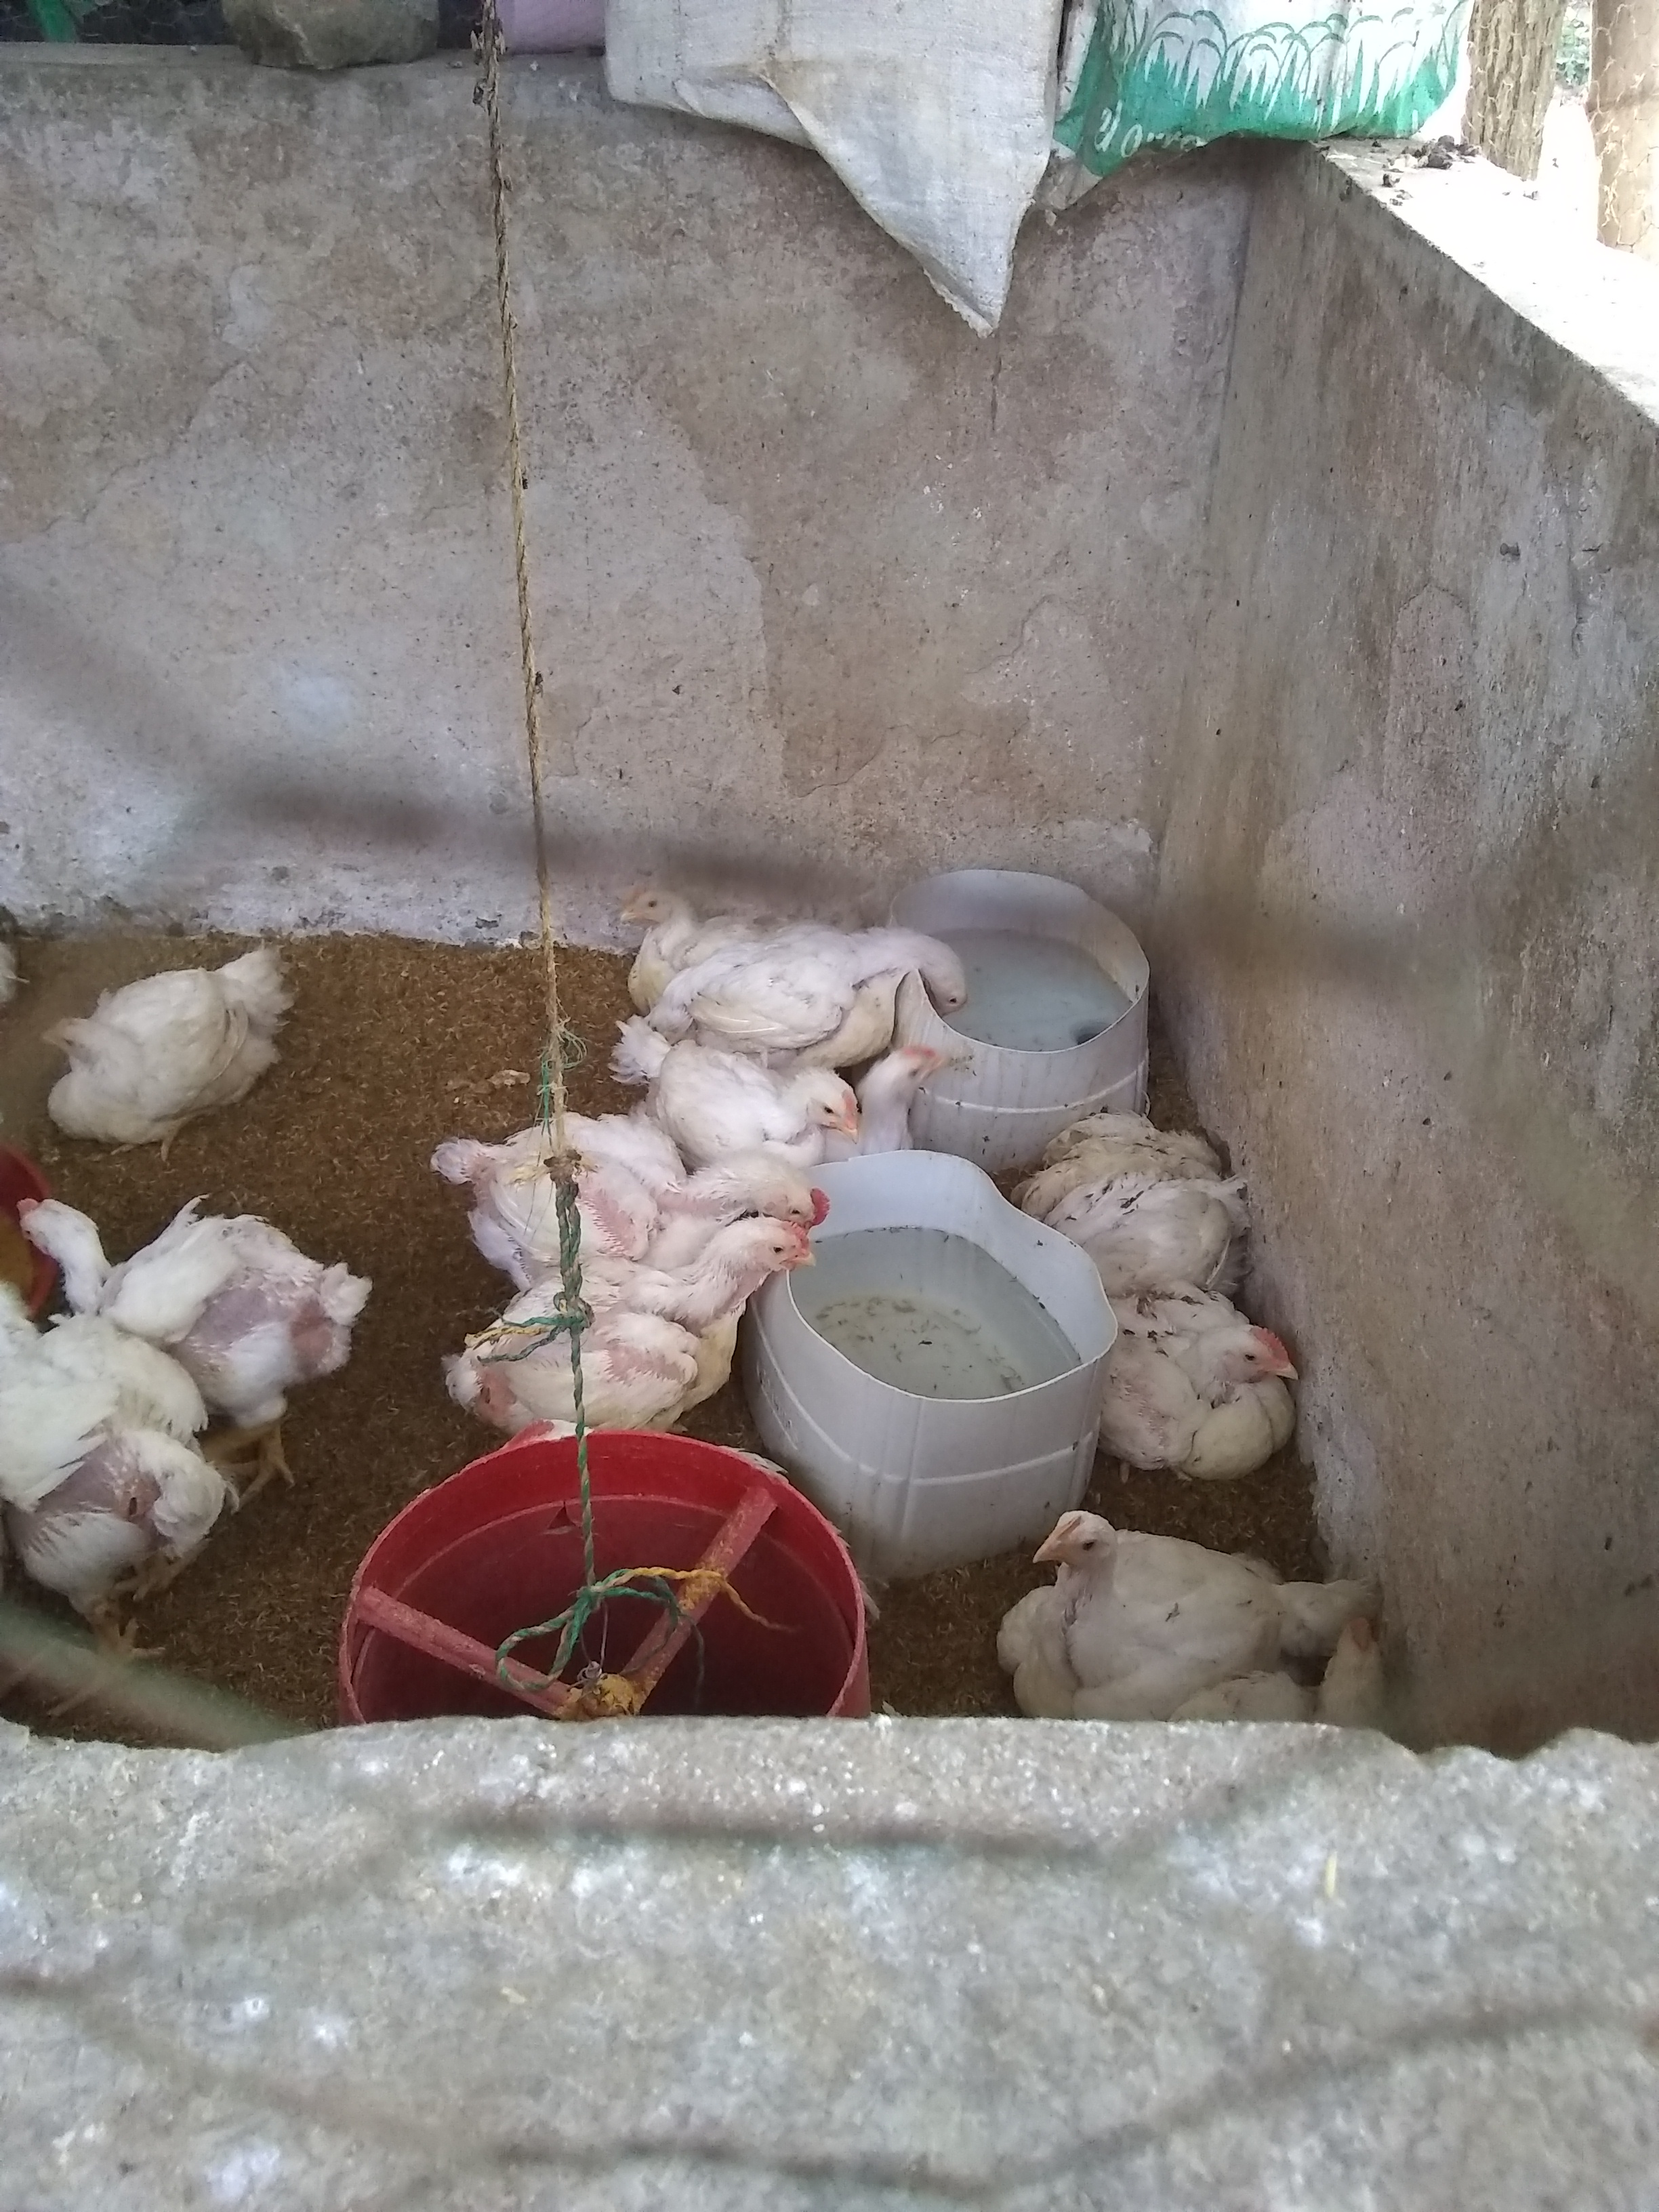Pollos: (16, 1179, 361, 1467), (415, 1219, 833, 1449), (0, 1285, 221, 1695), (1016, 1507, 1276, 1740), (1009, 1097, 1286, 1298), (31, 965, 328, 1143), (1098, 1289, 1358, 1482), (652, 921, 1000, 1061), (471, 1118, 849, 1240), (582, 1024, 864, 1139), (1262, 1620, 1464, 1759), (870, 1043, 967, 1151), (591, 871, 697, 941)
